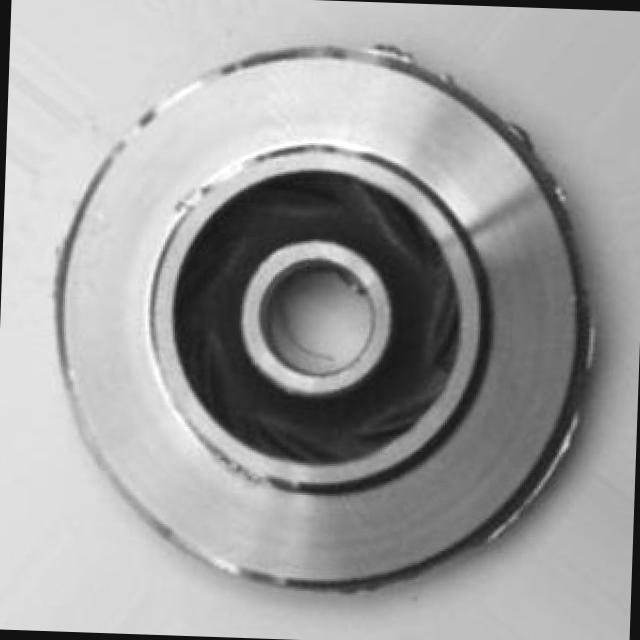Defect: (358, 29, 417, 70)
